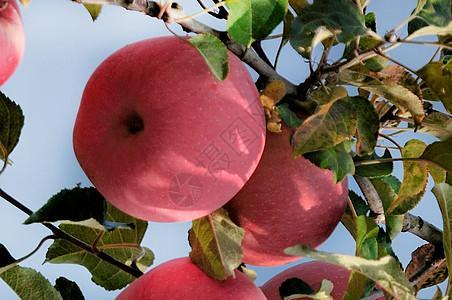apple: (71, 31, 266, 224), (222, 122, 347, 265)
